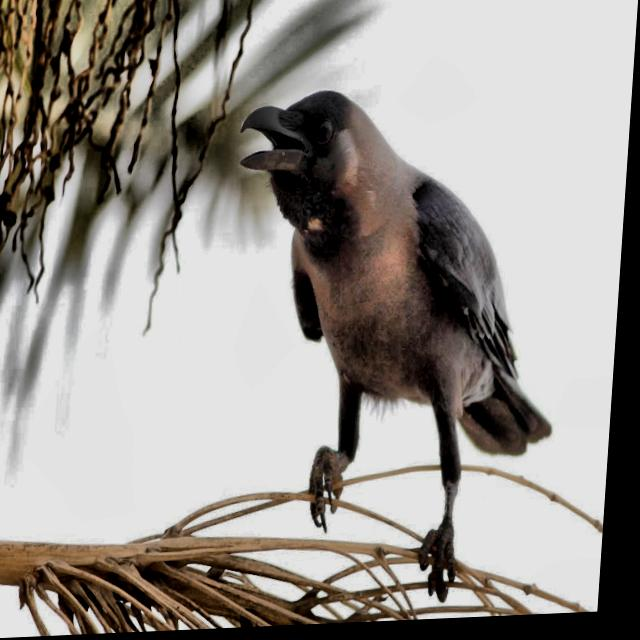crow: (207, 68, 576, 618)
